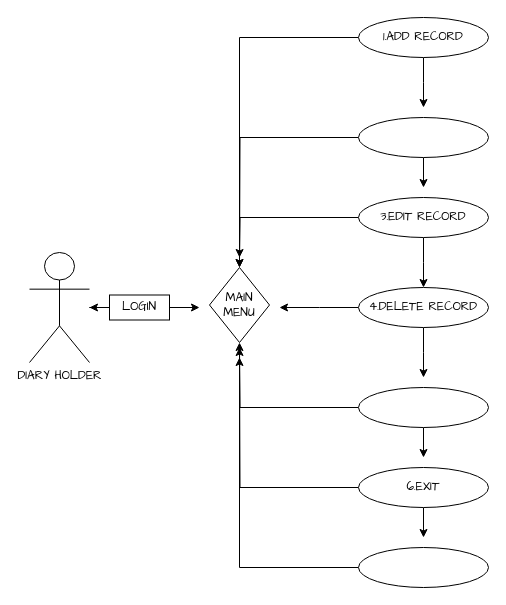
This 506x605 diagram has some shape labels left out. Each missing label, with the centre of its shape:
2.VIEW RECORD: the point at 423,137
5. EDIT PASSWORD: the point at 423,407
7.CLOSE: the point at 423,567
